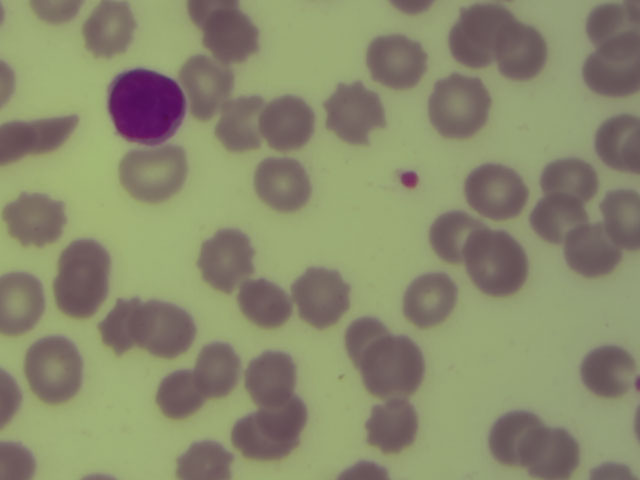Platlets: (401, 170, 420, 191)
RBC: (464, 230, 532, 297), (359, 336, 428, 401), (31, 335, 88, 409), (431, 79, 495, 137), (228, 418, 308, 464), (465, 165, 532, 219), (137, 299, 196, 358), (367, 36, 429, 92), (122, 149, 187, 202), (329, 84, 385, 145), (181, 60, 238, 119), (2, 117, 77, 161), (7, 193, 69, 246), (260, 155, 315, 213), (296, 270, 349, 330), (200, 230, 253, 289), (583, 47, 640, 101), (400, 270, 455, 325), (243, 355, 302, 406), (565, 225, 620, 277), (372, 395, 422, 452), (259, 101, 317, 149), (449, 10, 495, 70), (491, 413, 539, 470), (150, 365, 201, 417), (429, 208, 477, 263), (54, 266, 106, 316), (4, 269, 42, 337), (532, 427, 583, 477), (240, 282, 294, 328), (206, 17, 259, 63), (596, 114, 638, 171), (256, 396, 310, 438), (540, 159, 595, 200), (222, 96, 262, 152), (586, 346, 628, 399), (583, 5, 637, 46), (90, 5, 134, 55), (504, 29, 548, 78), (197, 345, 238, 397), (604, 190, 640, 248), (536, 201, 587, 240), (99, 301, 134, 357), (477, 5, 519, 50), (178, 442, 231, 477), (63, 241, 108, 281), (29, 1, 79, 31), (1, 442, 37, 478), (346, 322, 384, 356), (1, 364, 20, 429), (185, 1, 235, 24), (338, 459, 389, 480), (1, 58, 20, 107), (593, 464, 640, 480), (391, 2, 435, 17), (631, 374, 640, 441), (82, 474, 115, 480)
WBC: (110, 69, 188, 143)
